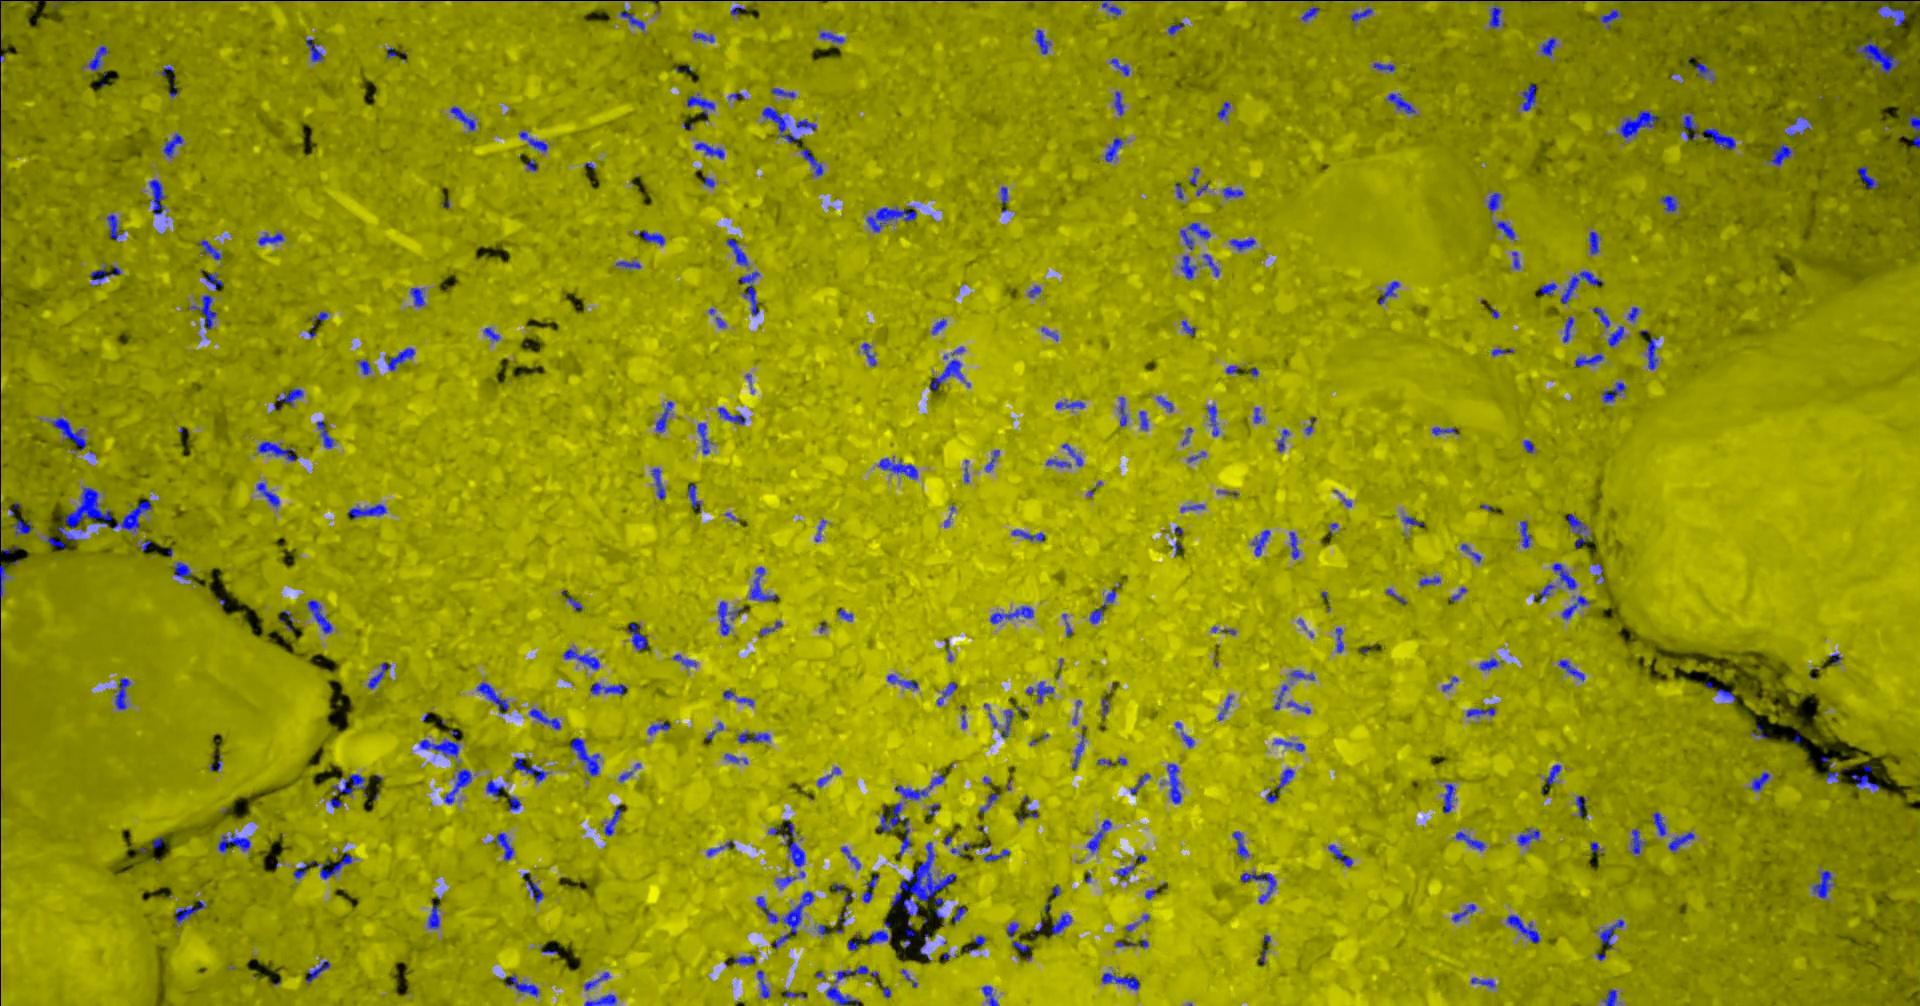ant: (756, 890, 813, 949), (57, 486, 112, 540), (825, 965, 877, 1005), (875, 801, 910, 855), (930, 345, 969, 390), (767, 819, 804, 866), (761, 105, 800, 145), (1855, 37, 1898, 72), (292, 854, 352, 879), (1857, 0, 1915, 25), (1559, 271, 1603, 304), (865, 205, 916, 232), (110, 498, 151, 531), (50, 417, 88, 450), (1618, 111, 1658, 138), (1239, 873, 1276, 903), (570, 737, 599, 775), (476, 682, 508, 713), (738, 271, 759, 315), (443, 768, 471, 803), (1506, 915, 1539, 942), (190, 293, 216, 329), (749, 567, 776, 600), (1088, 589, 1115, 622), (513, 756, 547, 781), (877, 457, 917, 479), (1178, 222, 1210, 249), (563, 647, 599, 669), (1086, 819, 1111, 852), (717, 601, 742, 635), (307, 600, 331, 633), (331, 774, 366, 796), (257, 441, 295, 461), (989, 605, 1032, 622), (419, 738, 458, 757), (686, 94, 714, 121), (1566, 513, 1587, 547), (1702, 127, 1735, 149), (1550, 561, 1576, 589), (1851, 763, 1879, 789), (1599, 920, 1623, 949), (174, 901, 204, 923), (504, 976, 538, 996), (528, 708, 560, 729), (1101, 972, 1139, 989), (1561, 594, 1589, 619), (273, 387, 303, 409), (386, 347, 414, 370), (367, 661, 390, 688), (1385, 91, 1415, 113), (348, 503, 386, 520), (450, 105, 475, 130), (1327, 843, 1352, 868), (149, 179, 166, 213), (626, 622, 648, 650), (1025, 681, 1053, 702), (491, 832, 513, 860), (1811, 870, 1832, 898), (1166, 763, 1181, 803), (518, 131, 547, 151), (217, 835, 250, 852), (867, 921, 891, 945), (257, 481, 279, 507), (800, 149, 822, 175), (1557, 659, 1583, 681), (726, 238, 747, 265), (90, 265, 119, 285), (1455, 831, 1484, 850), (618, 9, 644, 30), (305, 960, 330, 982), (655, 401, 673, 432), (604, 803, 621, 835), (88, 44, 108, 70), (197, 239, 222, 259), (1667, 831, 1694, 850), (583, 970, 610, 989), (723, 688, 753, 705), (717, 406, 745, 424), (316, 420, 334, 448), (1768, 144, 1790, 165), (1857, 165, 1878, 188), (1378, 281, 1399, 304), (1601, 381, 1625, 401), (936, 681, 956, 705), (817, 767, 841, 788), (697, 422, 712, 453), (650, 467, 665, 499), (114, 677, 130, 709), (524, 876, 543, 902), (1070, 734, 1084, 768), (1251, 528, 1269, 555), (1230, 831, 1248, 857), (634, 230, 664, 245), (1062, 443, 1082, 466), (1520, 83, 1537, 111), (894, 785, 927, 799), (706, 840, 734, 856), (163, 133, 182, 158), (1103, 137, 1123, 161), (695, 142, 724, 158), (775, 871, 804, 887), (105, 213, 122, 240), (1694, 61, 1714, 83), (841, 846, 860, 869), (1680, 114, 1698, 138), (1451, 903, 1476, 921), (886, 674, 917, 688), (1034, 29, 1050, 55), (1646, 337, 1658, 370), (1011, 528, 1044, 541), (1130, 774, 1150, 794), (1050, 913, 1070, 934), (1599, 8, 1620, 27), (1443, 782, 1457, 812), (305, 38, 323, 61), (1907, 113, 1919, 149), (862, 875, 877, 902), (1272, 738, 1304, 751), (427, 897, 439, 929), (1180, 255, 1196, 279), (1276, 768, 1293, 793), (590, 682, 625, 694), (756, 969, 770, 997), (819, 30, 844, 46), (1495, 221, 1515, 240), (1460, 542, 1481, 561), (1272, 683, 1288, 709), (1750, 771, 1769, 791), (1206, 403, 1218, 436), (737, 732, 770, 743), (979, 793, 998, 812), (584, 993, 616, 1005), (1203, 254, 1219, 276), (1517, 828, 1539, 845), (964, 935, 985, 951), (1488, 0, 1501, 28), (1229, 238, 1255, 251), (1575, 353, 1603, 366), (687, 483, 700, 511), (1519, 520, 1531, 547), (1217, 695, 1230, 720), (999, 709, 1012, 737), (1630, 828, 1644, 854), (861, 342, 876, 365), (984, 448, 999, 471), (759, 620, 782, 635), (257, 232, 283, 245), (203, 272, 222, 290), (485, 779, 504, 796), (983, 848, 1010, 861), (672, 653, 696, 667), (1543, 763, 1559, 784), (982, 984, 998, 1005), (278, 610, 293, 631), (1349, 8, 1371, 22), (903, 920, 914, 948), (173, 561, 190, 579), (1538, 583, 1556, 601), (1110, 58, 1129, 75), (1592, 307, 1609, 326), (11, 520, 30, 536), (1286, 700, 1310, 713), (648, 721, 669, 735), (1114, 862, 1135, 876), (1101, 0, 1120, 15), (409, 287, 424, 306), (1562, 316, 1573, 342), (1608, 326, 1623, 345), (1478, 657, 1501, 669), (1652, 812, 1665, 835), (1289, 531, 1299, 559), (1825, 762, 1839, 782), (1222, 185, 1243, 198), (1156, 395, 1172, 412), (1540, 37, 1556, 55), (1750, 723, 1768, 738), (952, 904, 966, 923), (1589, 231, 1600, 254), (1117, 396, 1126, 426), (1465, 708, 1495, 716), (770, 86, 795, 97), (1660, 196, 1676, 211), (931, 318, 946, 334), (1217, 102, 1230, 119), (795, 118, 817, 130), (1575, 795, 1586, 817), (1112, 91, 1123, 116), (1290, 669, 1314, 680), (1470, 977, 1495, 987), (1487, 192, 1500, 211), (44, 535, 63, 547), (1716, 687, 1735, 700), (724, 753, 747, 763), (928, 774, 943, 789), (1302, 8, 1318, 22), (483, 326, 499, 340), (565, 596, 582, 610), (1045, 459, 1070, 467), (1055, 400, 1084, 408), (692, 32, 714, 42), (1277, 429, 1288, 451), (1418, 575, 1440, 586), (0, 564, 6, 598), (1431, 426, 1455, 434), (1335, 627, 1343, 652), (1603, 989, 1617, 1005), (1167, 22, 1183, 34), (1539, 282, 1556, 295), (1373, 62, 1396, 71), (1011, 940, 1029, 951), (615, 260, 640, 268), (1625, 306, 1638, 321), (1181, 320, 1194, 335), (508, 795, 521, 810), (1402, 516, 1423, 525), (733, 955, 754, 964), (847, 934, 858, 950), (1006, 922, 1018, 936), (837, 608, 852, 620), (1139, 410, 1148, 429), (1101, 697, 1109, 719), (358, 359, 370, 373), (1523, 439, 1534, 452), (1001, 185, 1007, 203)
